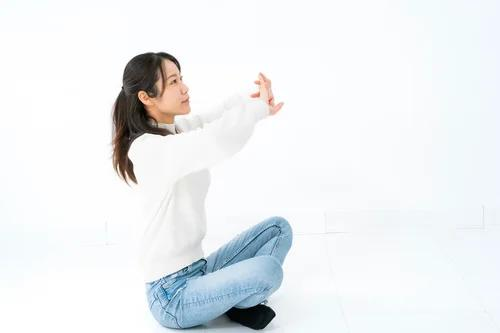human: (111, 52, 292, 333)
